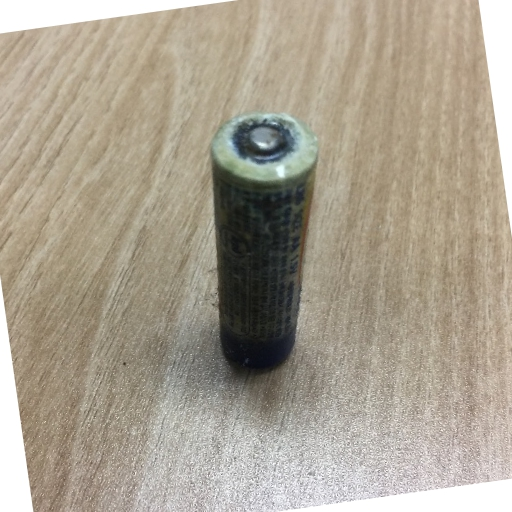Battery_0: (204, 96, 319, 390)
